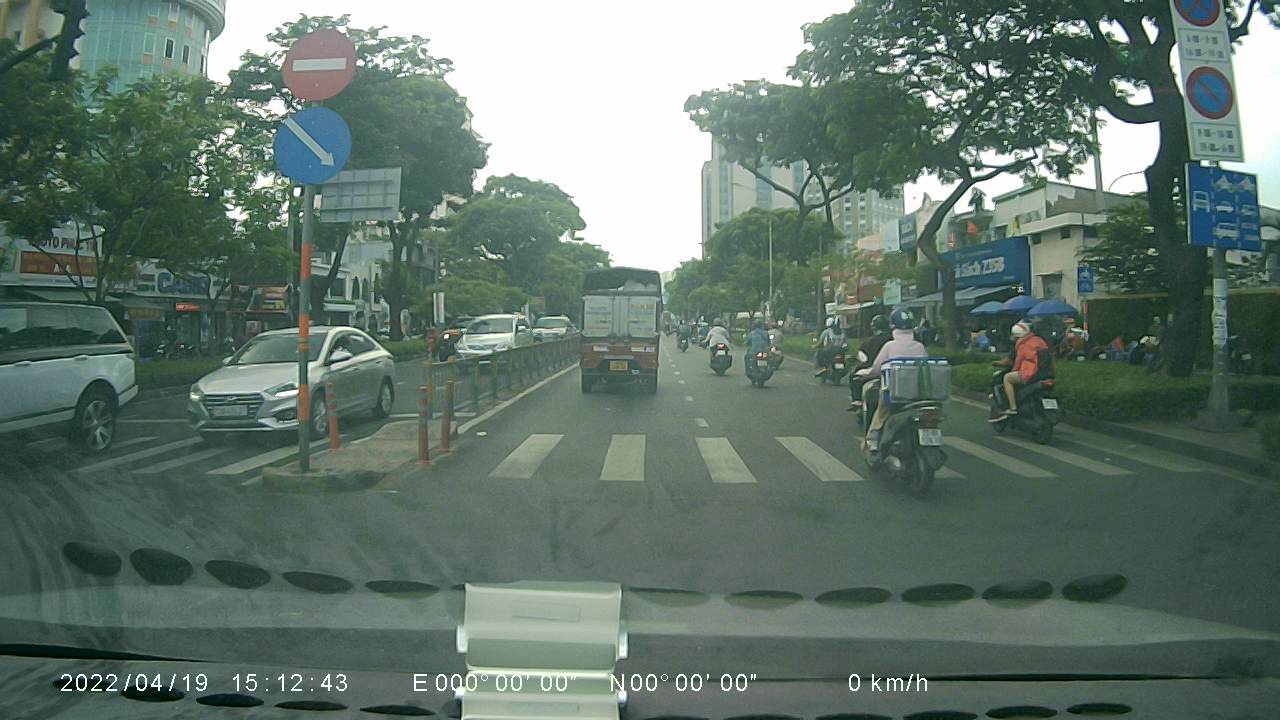Cam di nguoc chieu: (282, 27, 357, 102)
Cam do xe: (1182, 60, 1238, 119)
Huong di phai re phai: (272, 111, 353, 181)
